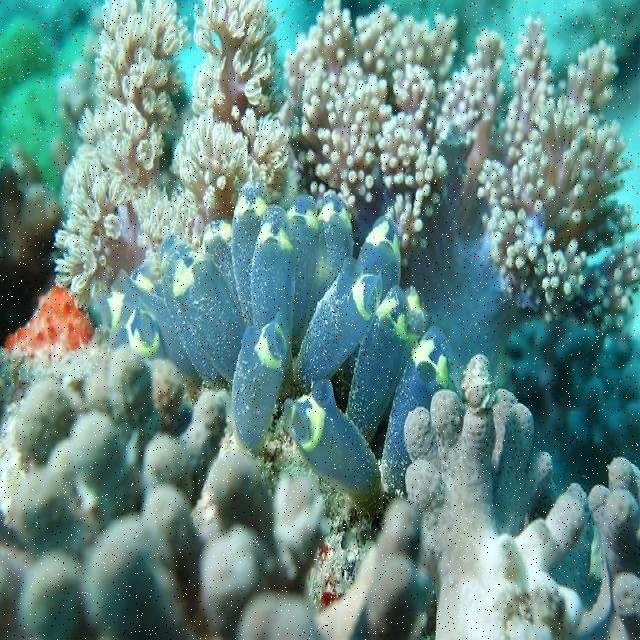aquatic plants: (56, 0, 637, 363), (95, 182, 461, 512)
reefs: (0, 326, 638, 639)
